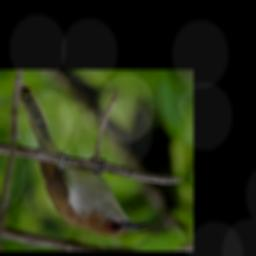Cuckoo: (19, 84, 150, 237)
